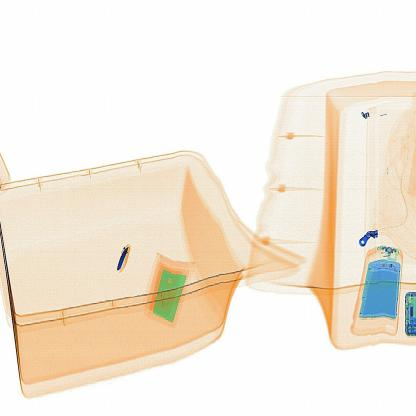wrench: (104, 241, 142, 292)
